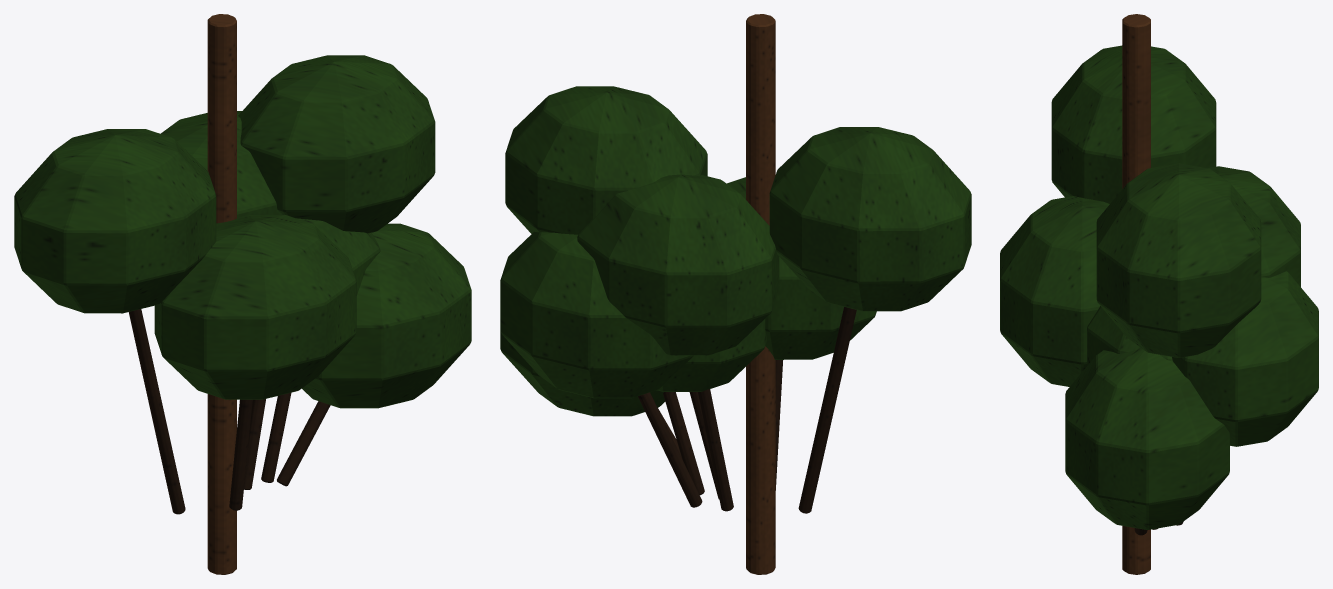
File: PROP-39FE989620EB_lod1.glb
3 views of the same model, side by side, from view 1: azimuth 30°, elevation 25°; view 2: azimuth 150°, elevation 25°; view 3: azimuth 270°, elevation 25° (orthographic).
Visible parts, largest first — view 1: foliage.016, vine_stake.002, plant_stem.016; view 2: foliage.016, vine_stake.002, plant_stem.016; view 3: foliage.016, vine_stake.002.
Boxes of the visible parts, bbox=[...] form: foliage.016: bbox=[14, 55, 471, 408]; vine_stake.002: bbox=[207, 14, 236, 574]; plant_stem.016: bbox=[128, 309, 330, 514]; foliage.016: bbox=[500, 86, 971, 416]; vine_stake.002: bbox=[746, 14, 775, 574]; plant_stem.016: bbox=[638, 307, 856, 513]; foliage.016: bbox=[1000, 45, 1318, 529]; vine_stake.002: bbox=[1122, 14, 1150, 574].
Size of the model in its own units: 1.37 by 1.6 by 0.8412.
3 materials, 3 textured.
